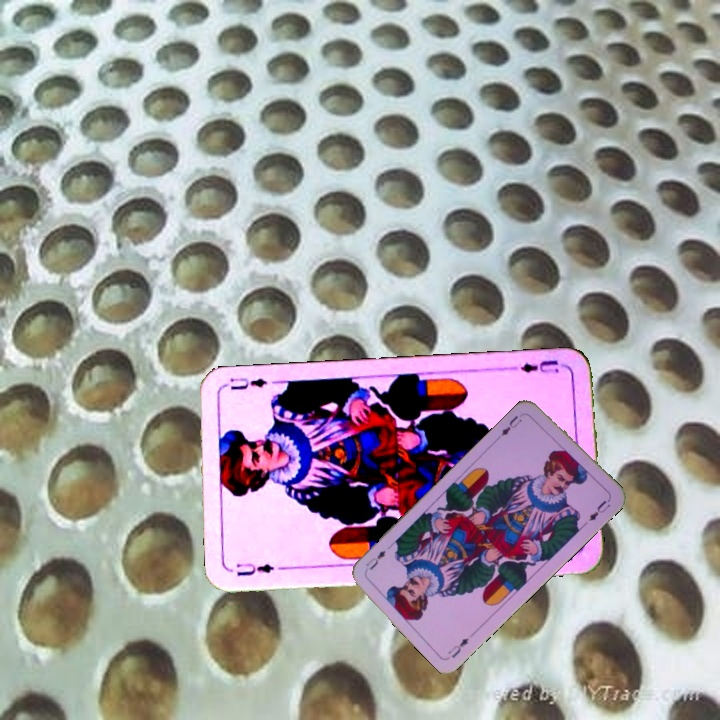EU: (509, 356, 568, 376), (232, 559, 277, 579), (497, 409, 528, 438), (444, 634, 472, 661)
